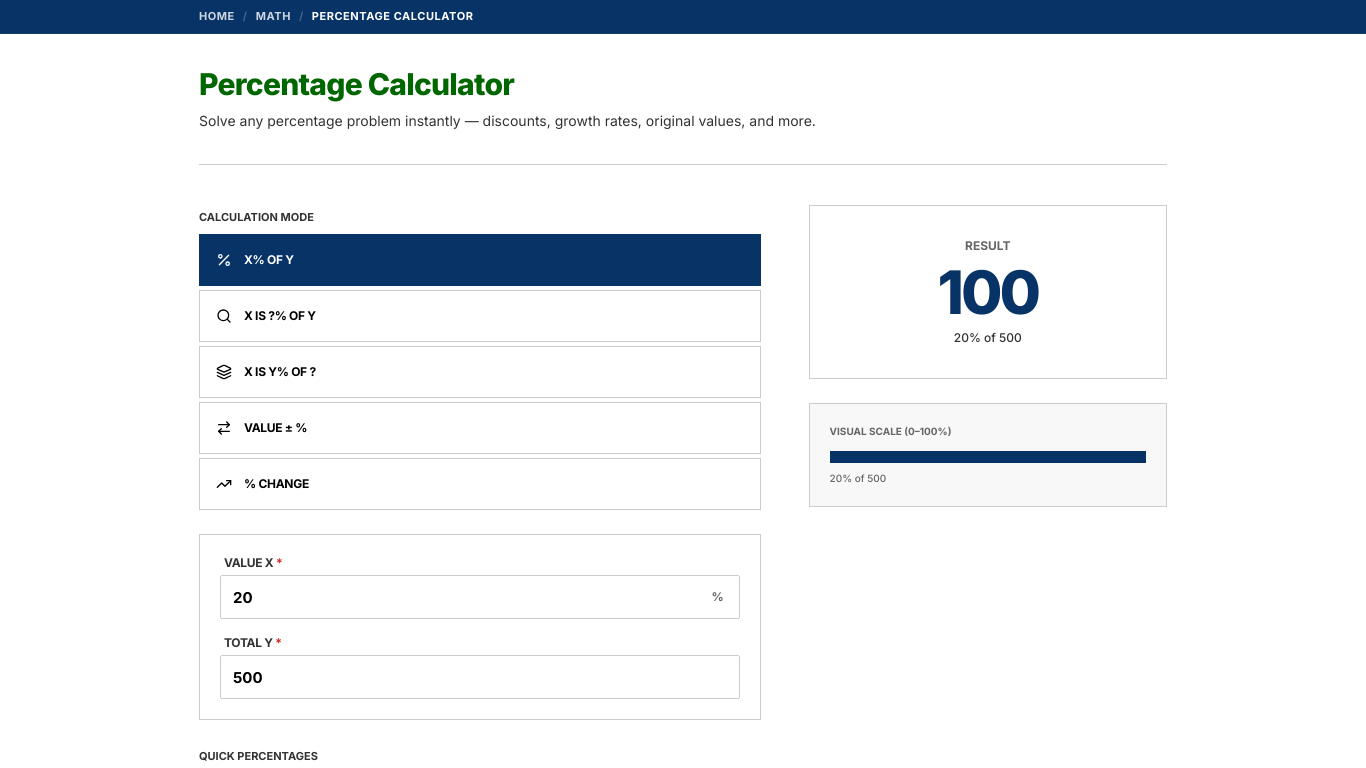
Test: Percentage Calculator Accuracy Test Suite › Type 3: Find Original Number (375 is 15% of what = 2500)
Click the button "X is Y% of ?".
click(280, 372)  # box [199,346,761,398]
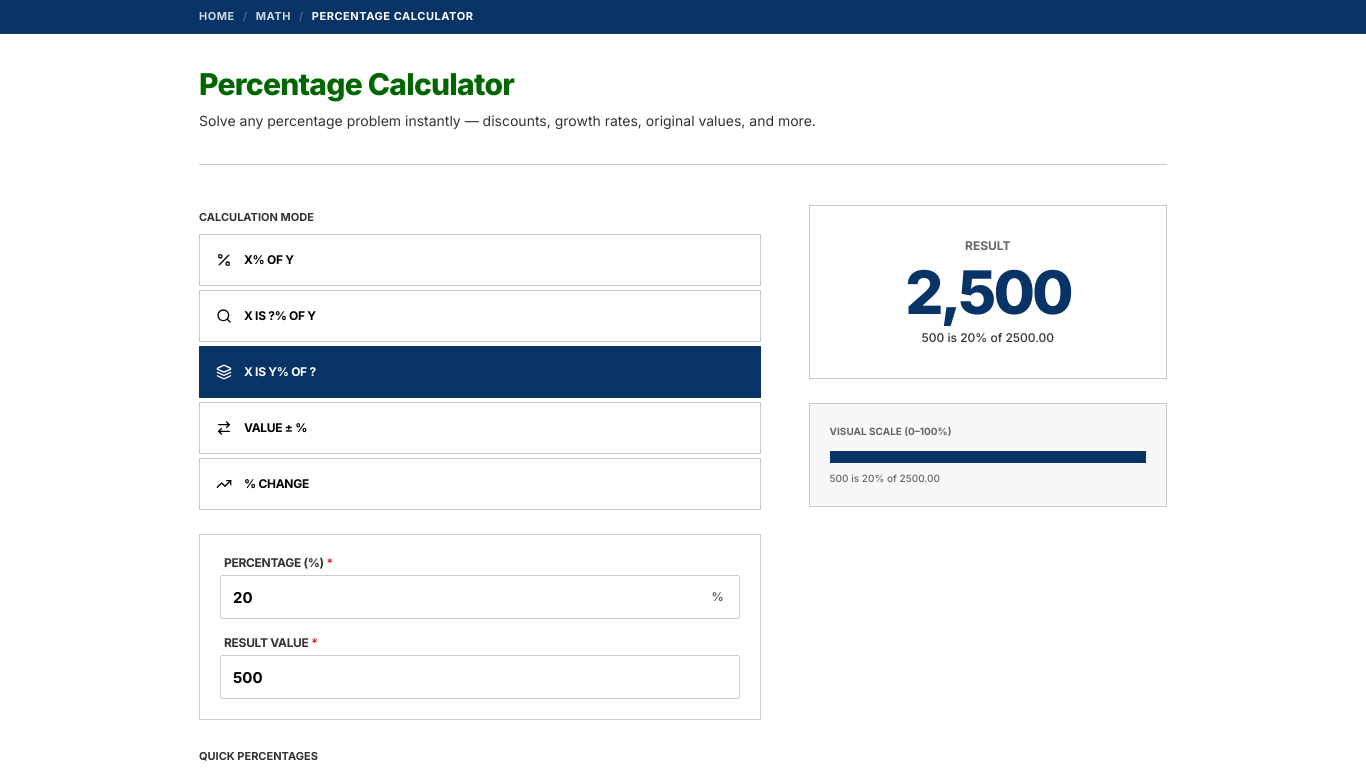
Replace the text in the number field labelled "Percentage (%) *" with "15" at [480, 597], box [220,575,740,619]
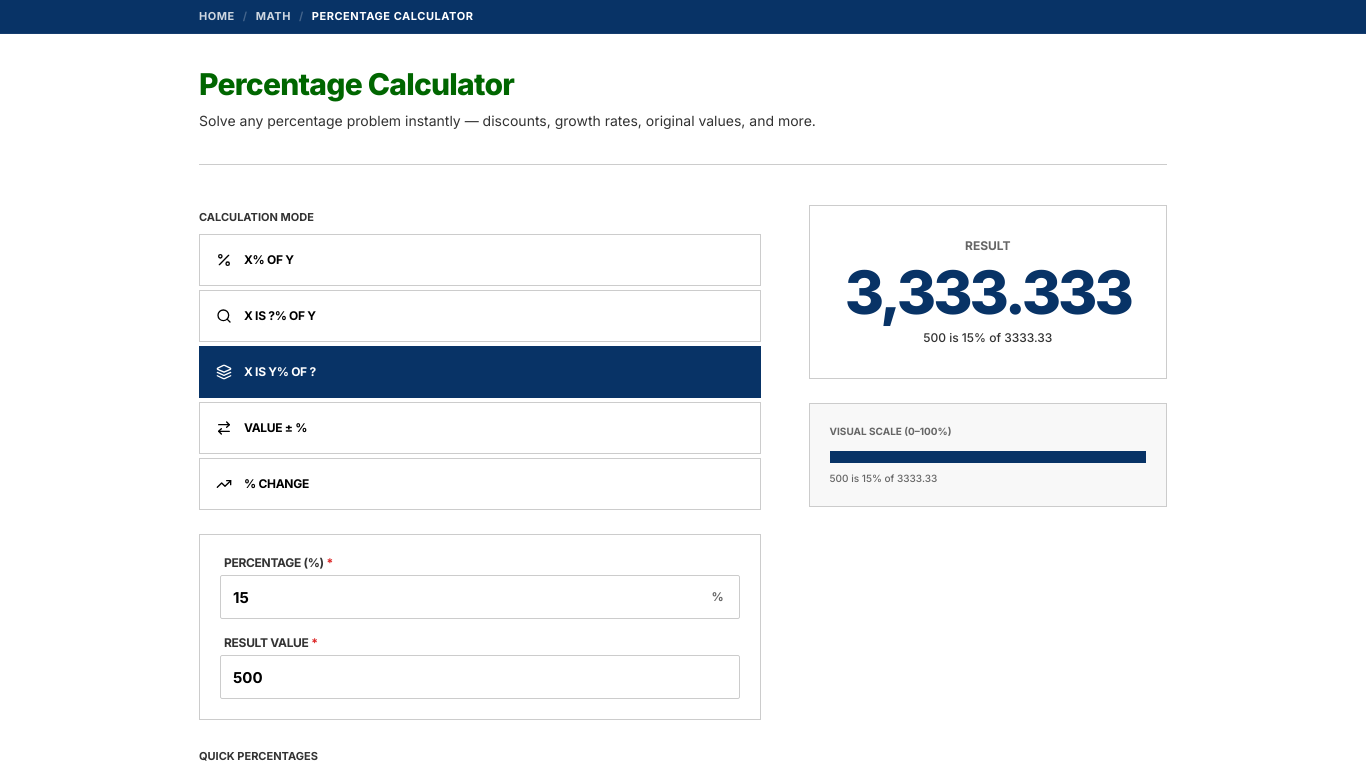
Replace the text in the number field labelled "Result Value *" with "375" at [480, 677], box [220,655,740,699]
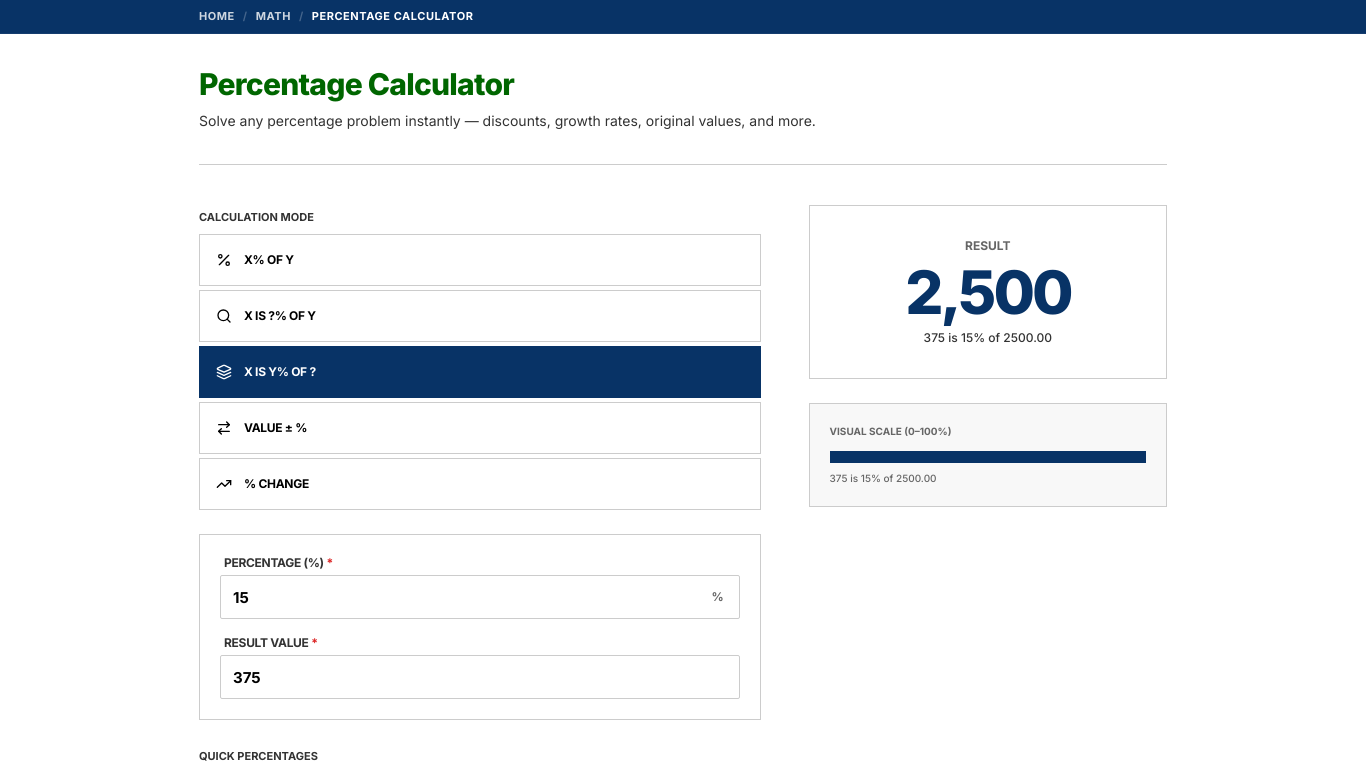
expect the text "2,500" is shown: met, box [905,256,1070,328]
